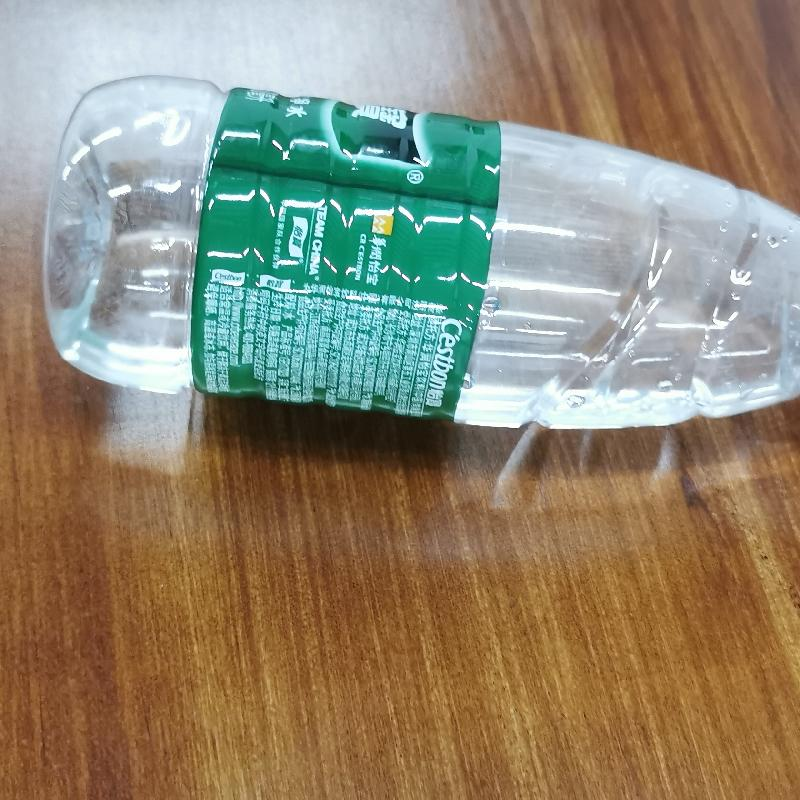bottles: (37, 75, 800, 436)
